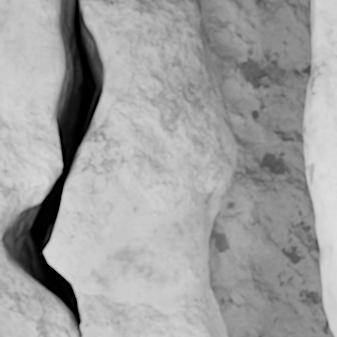brick: (304, 0, 336, 336)
broken_brick: (46, 0, 238, 336), (0, 0, 62, 234), (0, 243, 79, 336)
crack: (0, 0, 107, 336)
